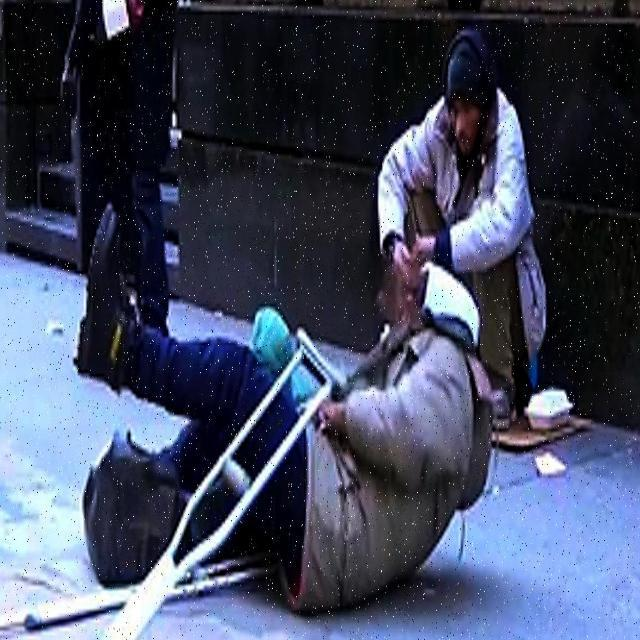fall: (79, 232, 478, 620)
